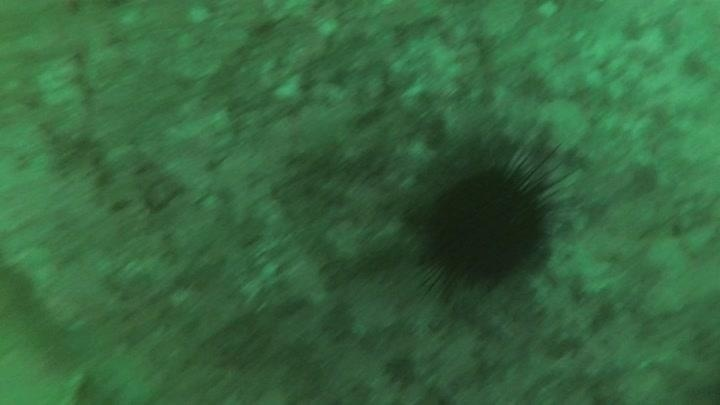echinus: (405, 130, 577, 300)
